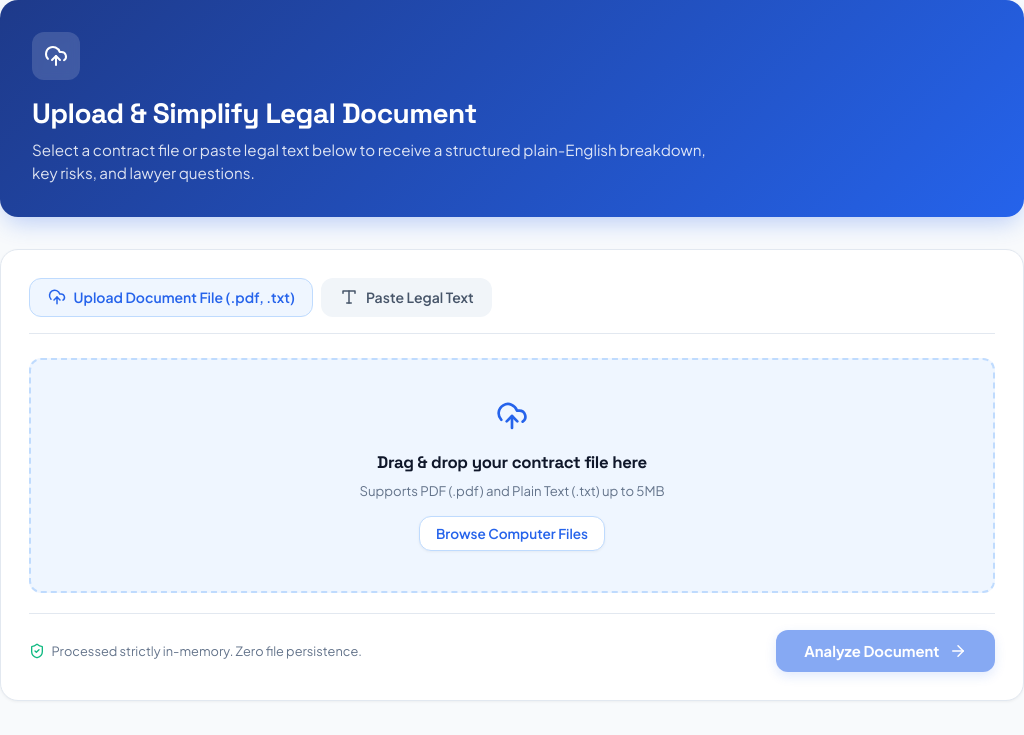
Test: Frontend Edge Cases, Error States, and Loading States › Empty Input Handling › shows error alert when DocumentUpload submit is clicked with text under 20 characters
Click the button "Paste Legal Text" at (407,297), box [322,278,492,317]
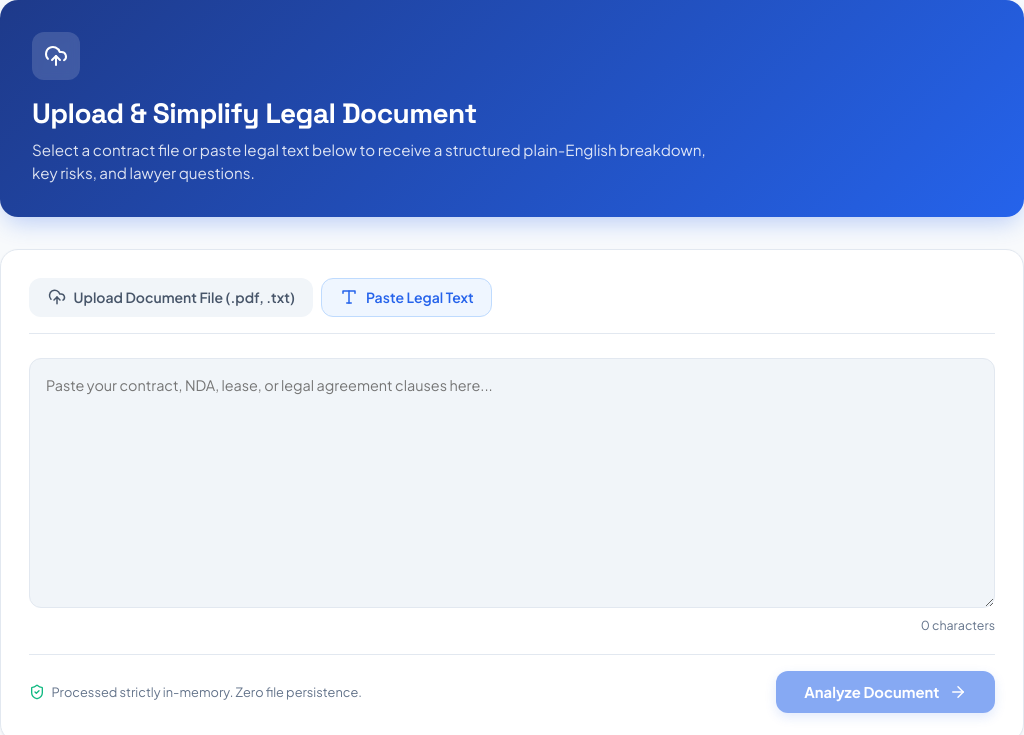
Replace the text in the text box with placeholder "Paste your contract" with "Short text" at (512,483), box [29,358,995,608]
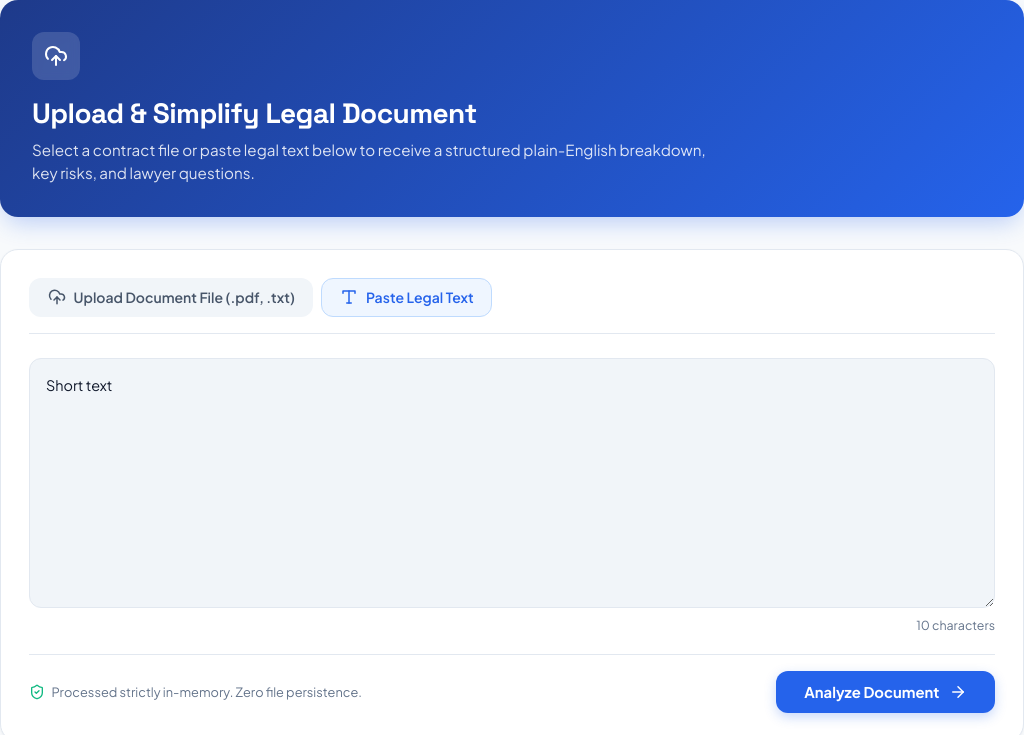
Submit the form with placeholder "Paste your contract", box [29,358,995,713]
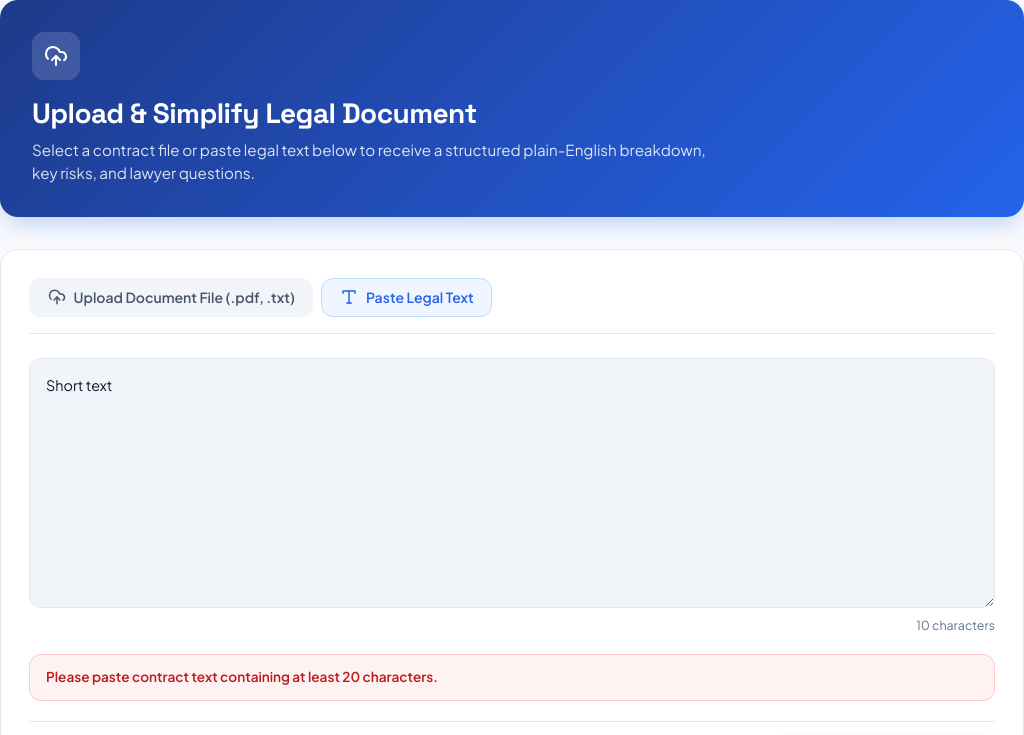
Expected: the message shows "Please paste contract text containing at least 20 characters", [46,668,438,685]
